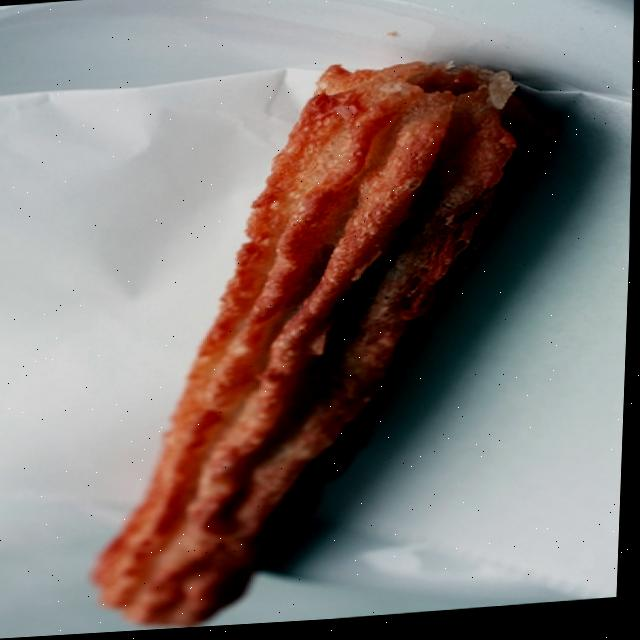炸货点心: (45, 28, 582, 637)
